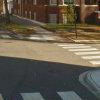Crosswalk: (55, 33, 100, 72)
